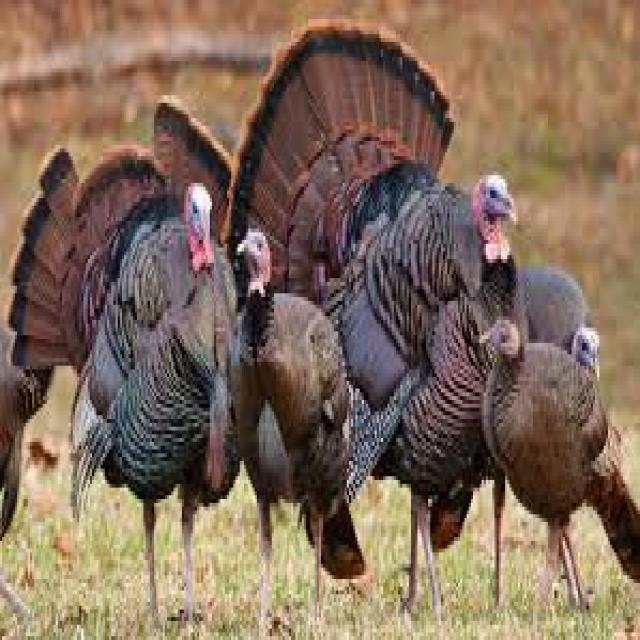Turkey: (236, 12, 518, 623), (12, 102, 241, 615), (230, 212, 370, 630), (474, 286, 640, 628)
